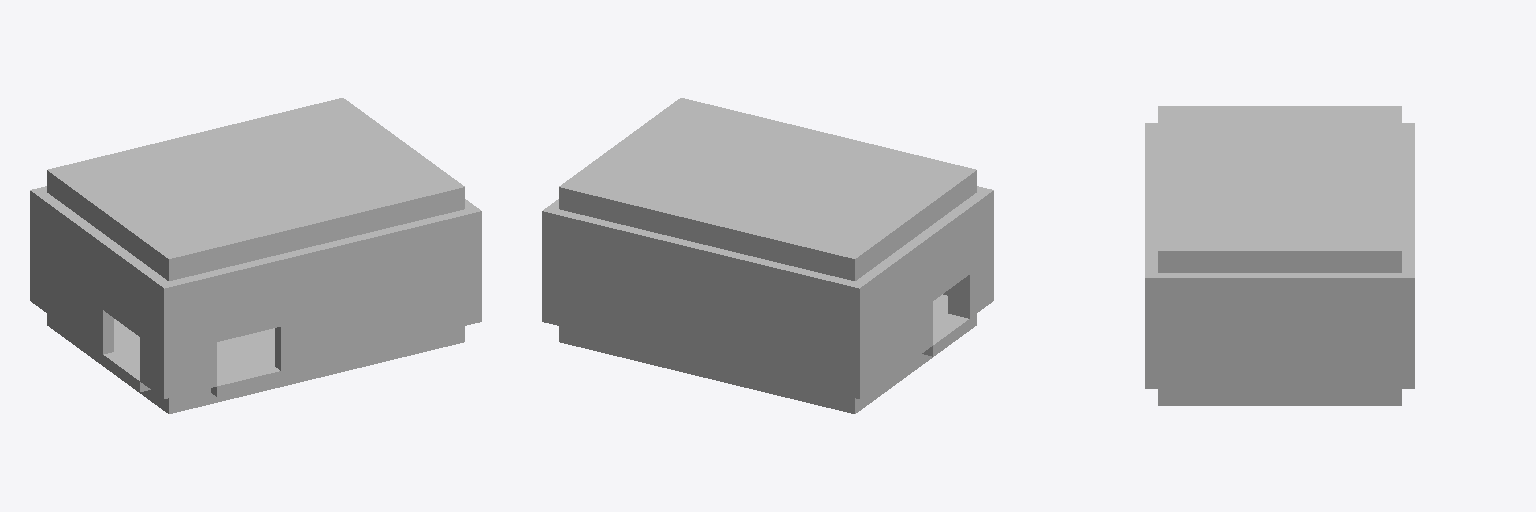
Rendered from RoomAttemp 5.obj.
3 renders of one model, left to right at view 1: azimuth 30°, elevation 25°; view 2: azimuth 150°, elevation 25°; view 3: azimuth 270°, elevation 25°, orthographic.
Parts seen in each view (by area): view 1: Top, backUpper, leftUpper, Back2, Floor, left1, PillarSW, Back1, PillarSE, leftLower.001, left2, leftLower (+1 smaller); view 2: Top, Front, leftUpper, Floor, left1, PillarNW, left2, PillarNE, leftLower, PillarSW; view 3: Top, right, Floor, backUpper, Front, PillarNE, PillarSE.
Part boxes in pixels (x1,y1,x2,y2): Top: (47,98,464,280); backUpper: (169,209,471,351); leftUpper: (36,192,168,349); Back2: (275,280,471,370); Floor: (47,314,464,413); left1: (36,261,113,354); PillarSW: (158,282,174,398); Back1: (175,342,216,396); PillarSE: (466,207,481,323); leftLower.001: (211,367,280,397); left2: (140,338,157,393); leftLower: (103,352,150,391); Top: (559,98,976,280); Front: (552,209,854,396); leftUpper: (855,192,987,349); Floor: (559,294,976,413); left1: (866,302,932,393); PillarNW: (849,282,865,398); left2: (948,261,987,318); PillarNE: (542,207,557,323); leftLower: (922,316,969,356); PillarSW: (978,188,993,304); Top: (1158,106,1401,272); right: (1158,273,1401,388); Floor: (1158,389,1401,405); backUpper: (1145,128,1157,272); Front: (1402,128,1414,272); PillarNE: (1402,273,1414,388); PillarSE: (1145,273,1157,388).
Bounding box in the file's own units: 15 × 7 × 11.